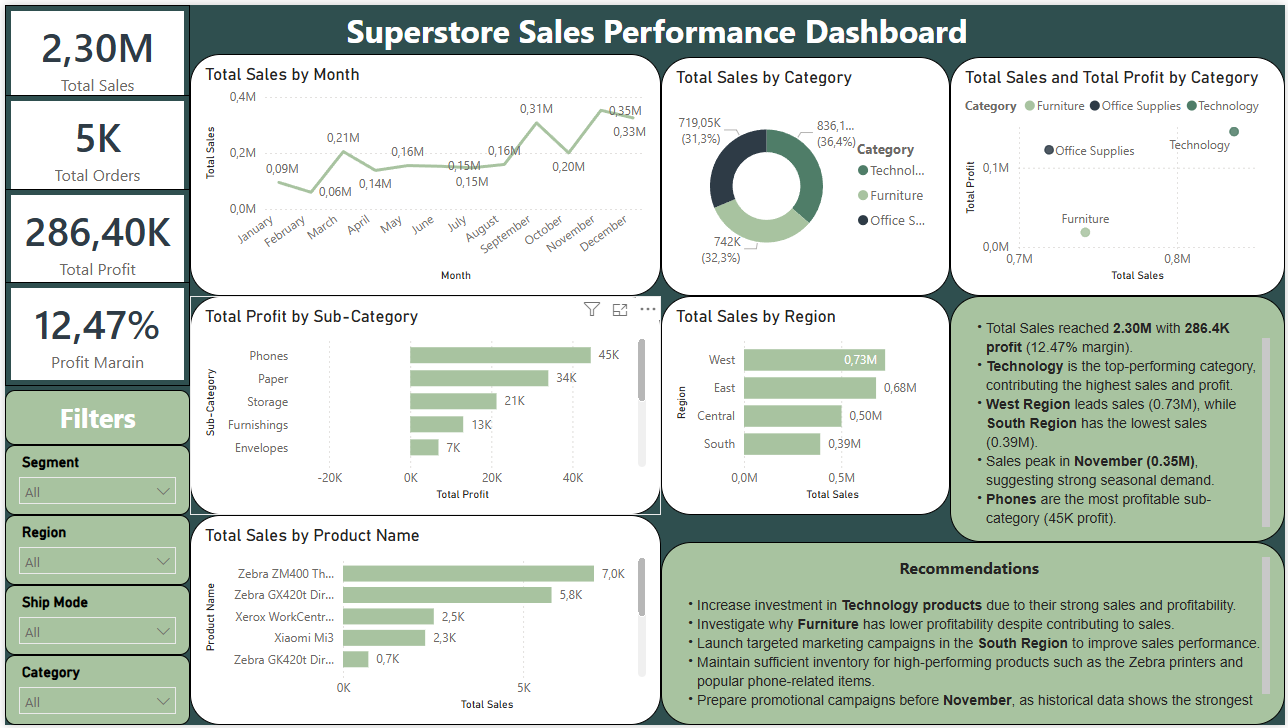

This screenshot's page, from the dashboard's own definition file:
{"tool":"powerbi","page":{"name":"Page 1","canvas":[1280,720],"ordinal":0},"visuals":[{"type":"cardVisual","fields":{"Data":["Sample - Superstore.Total Sales"]},"box":[0,0,185,104],"z":0},{"type":"cardVisual","fields":{"Data":["Sample - Superstore.Total Orders"]},"box":[0,90,185,104],"z":1000},{"type":"cardVisual","fields":{"Data":["Sample - Superstore.Total Profit"]},"box":[0,184,185,104],"z":2000},{"type":"cardVisual","fields":{"Data":["Sample - Superstore.Profit Margin"]},"box":[0,277,185,104],"z":3000},{"type":"donutChart","fields":{"Category":["Sample - Superstore.Category"],"Y":["Sample - Superstore.Total Sales"]},"box":[656,52,289,239],"z":4000},{"type":"clusteredBarChart","fields":{"Category":["Sample - Superstore.Sub-Category"],"Y":["Sample - Superstore.Total Profit"]},"box":[185,291,471,219],"z":5000},{"type":"barChart","fields":{"Category":["Sample - Superstore.Region"],"Y":["Sample - Superstore.Total Sales"]},"box":[656,291,289,219],"z":6000},{"type":"lineChart","fields":{"Category":["Sample - Superstore.Order Date.Variation.Date Hierarchy.Month"],"Y":["Sample - Superstore.Total Sales"]},"box":[185,49,471,242],"z":7000},{"type":"clusteredBarChart","fields":{"Category":["Sample - Superstore.Product Name"],"Y":["Sample - Superstore.Total Sales"]},"box":[185,510,471,210],"z":8000},{"type":"scatterChart","fields":{"X":["Sample - Superstore.Total Sales"],"Y":["Sample - Superstore.Total Profit"],"Series":["Sample - Superstore.Category"]},"box":[945,52,335,239],"z":9000},{"type":"shape","box":[264,0,776,49],"z":10000},{"type":"slicer","fields":{"Values":["Sample - Superstore.Region"]},"box":[0,510,185,70],"z":11000},{"type":"slicer","fields":{"Values":["Sample - Superstore.Category"]},"box":[0,650,185,70],"z":12000},{"type":"slicer","fields":{"Values":["Sample - Superstore.Segment"]},"box":[0,440,185,70],"z":13000},{"type":"slicer","fields":{"Values":["Sample - Superstore.Ship Mode"]},"box":[0,580,185,70],"z":14000},{"type":"textbox","box":[0,385,185,55],"z":15001},{"type":"textbox","box":[945,291,335,246],"z":15002},{"type":"textbox","box":[656,537,624,183],"z":15003}]}

Visuals, with their boxes in screenshot pixels (x1, y1, x2, y2), scaled from the page's 1280x720 canvas onto the 1288x728 screenshot:
cardVisual - Sample - Superstore.Total Sales: region(0, 0, 186, 105)
cardVisual - Sample - Superstore.Total Orders: region(0, 91, 186, 196)
cardVisual - Sample - Superstore.Total Profit: region(0, 186, 186, 291)
cardVisual - Sample - Superstore.Profit Margin: region(0, 280, 186, 385)
donutChart - Sample - Superstore.Category x Sample - Superstore.Total Sales: region(660, 53, 951, 294)
clusteredBarChart - Sample - Superstore.Sub-Category x Sample - Superstore.Total Profit: region(186, 294, 660, 516)
barChart - Sample - Superstore.Region x Sample - Superstore.Total Sales: region(660, 294, 951, 516)
lineChart - Sample - Superstore.Order Date.Variation.Date Hierarchy.Month x Sample - Superstore.Total Sales: region(186, 50, 660, 294)
clusteredBarChart - Sample - Superstore.Product Name x Sample - Superstore.Total Sales: region(186, 516, 660, 727)
scatterChart - Sample - Superstore.Total Sales x Sample - Superstore.Total Profit: region(951, 53, 1287, 294)
shape: region(266, 0, 1046, 50)
slicer - Sample - Superstore.Region: region(0, 516, 186, 586)
slicer - Sample - Superstore.Category: region(0, 657, 186, 727)
slicer - Sample - Superstore.Segment: region(0, 445, 186, 516)
slicer - Sample - Superstore.Ship Mode: region(0, 586, 186, 657)
textbox: region(0, 389, 186, 445)
textbox: region(951, 294, 1287, 543)
textbox: region(660, 543, 1287, 727)
